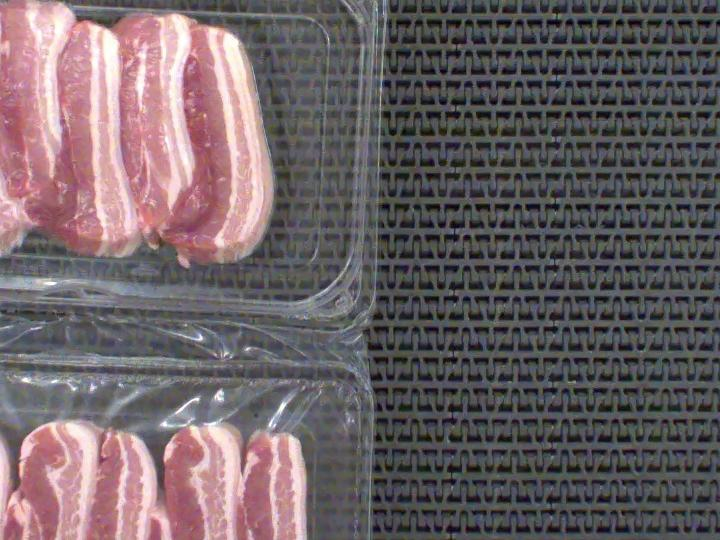unsealed: (0, 343, 359, 540)
